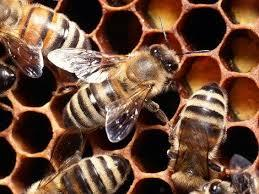worker-bee: (47, 42, 194, 135), (166, 71, 223, 194)
